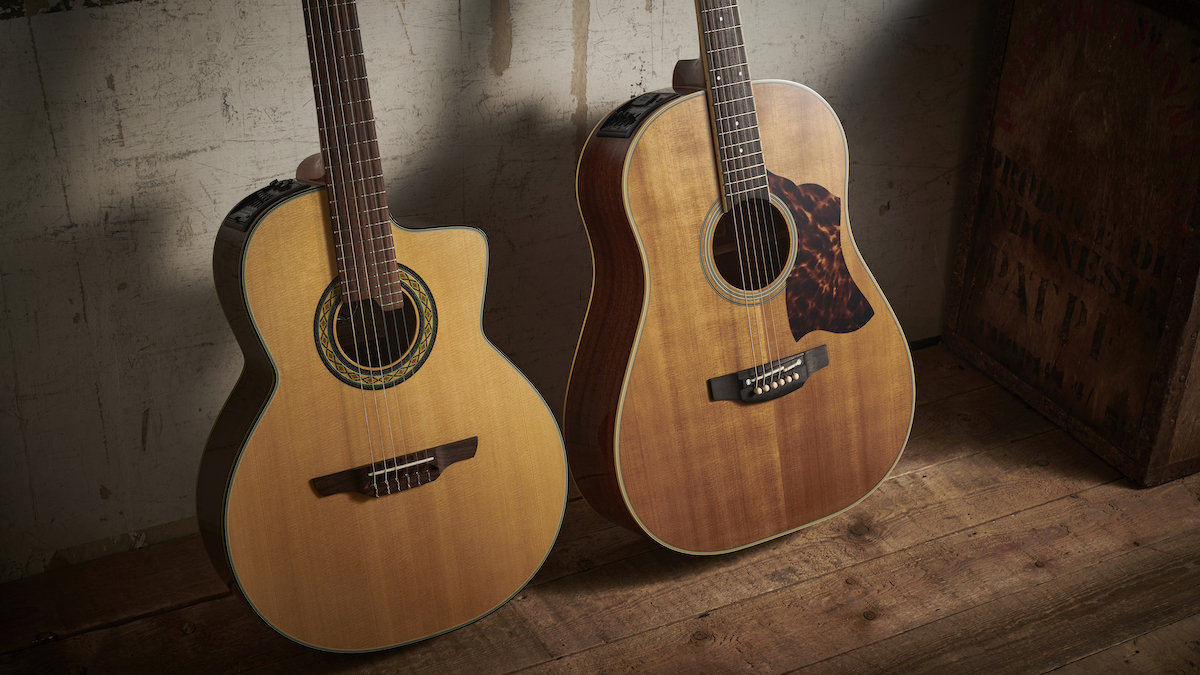guitar: (196, 0, 572, 657), (561, 0, 918, 561)
